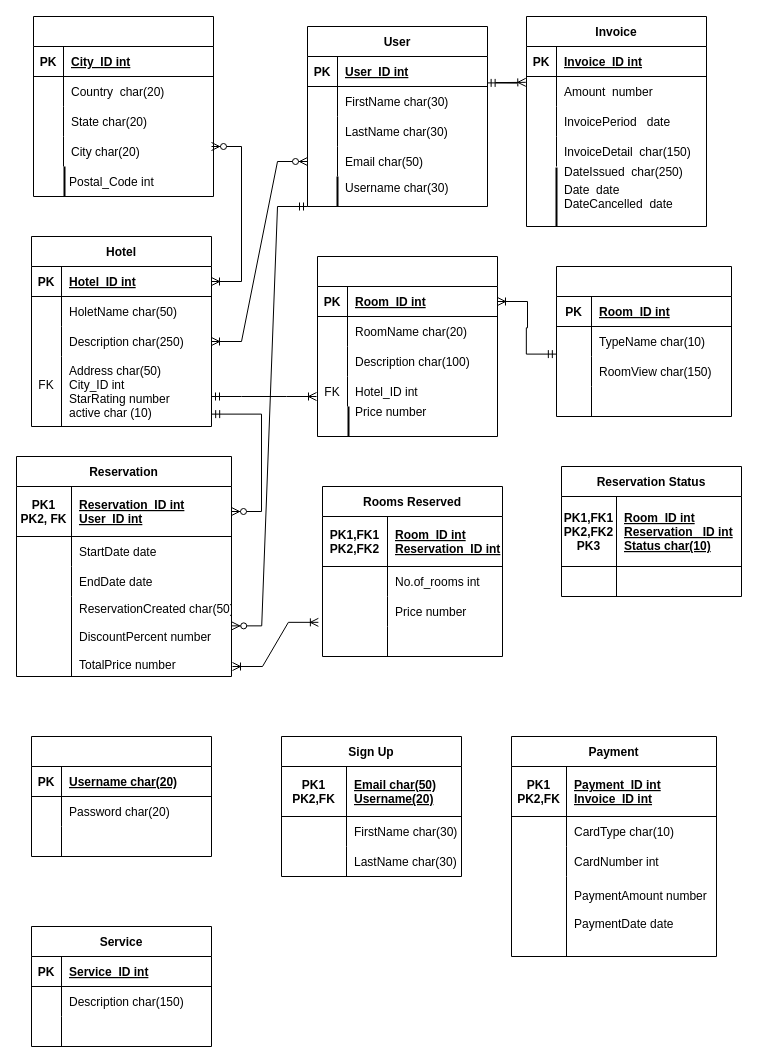
Image size: 758x1063. Some labels were removed from this diagram. Each missing label, with the box of its shape:
Cities: (32, 16, 214, 196)
Login: (30, 736, 212, 856)
Room Type: (556, 266, 732, 416)
Rooms: (316, 256, 498, 436)
